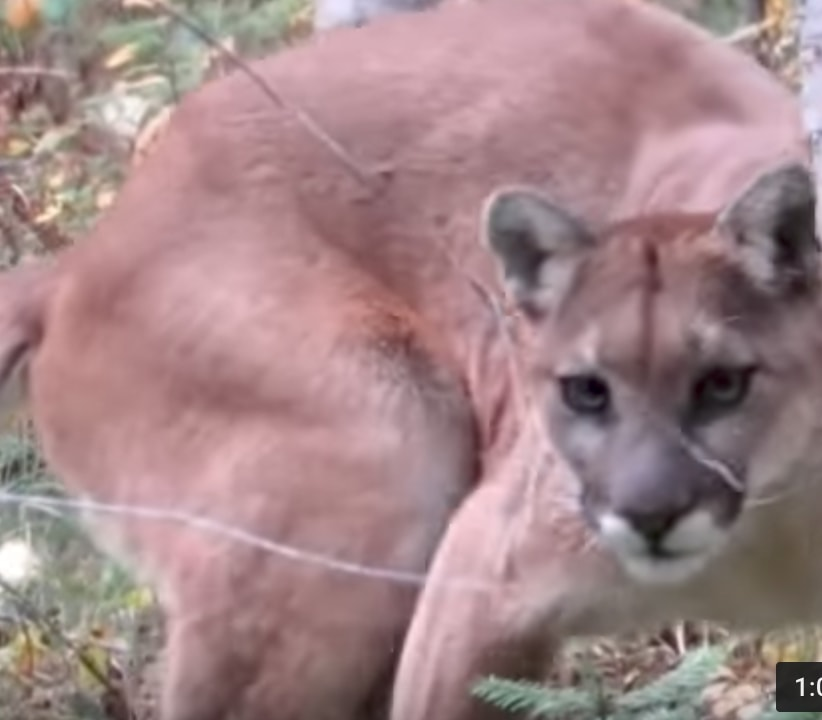Mountain Lion: (18, 9, 818, 696)
